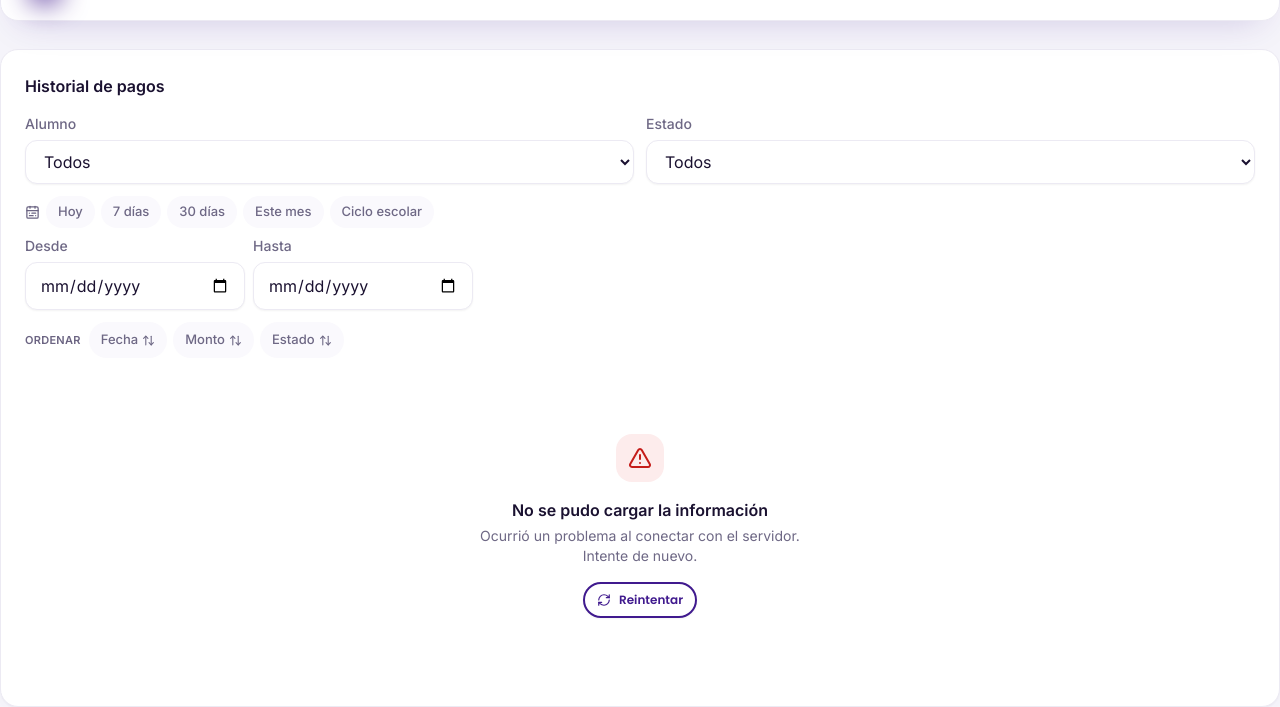
Test: PaymentsPage states › shows an error state (not a misleading empty list) and recovers on retry
(page scrolled)
Expected: the text "No se pudo cargar la información" is shown, [512,498,768,522]
Expected: the text "Sin pagos" is not shown
Click the button "Reintentar" at (640, 600), box [583,582,697,618]
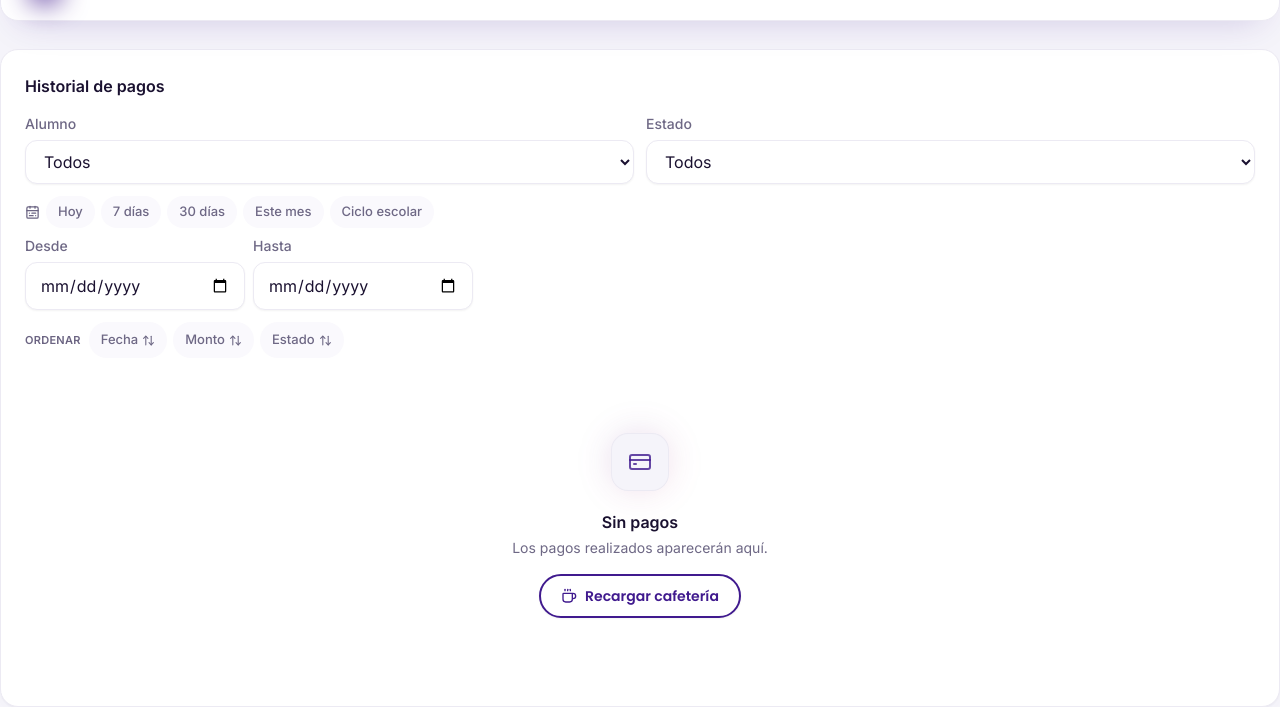
Result: the heading "Sin pagos" is shown at [602,510,678,534]
Result: the text "No se pudo cargar la información" is gone
